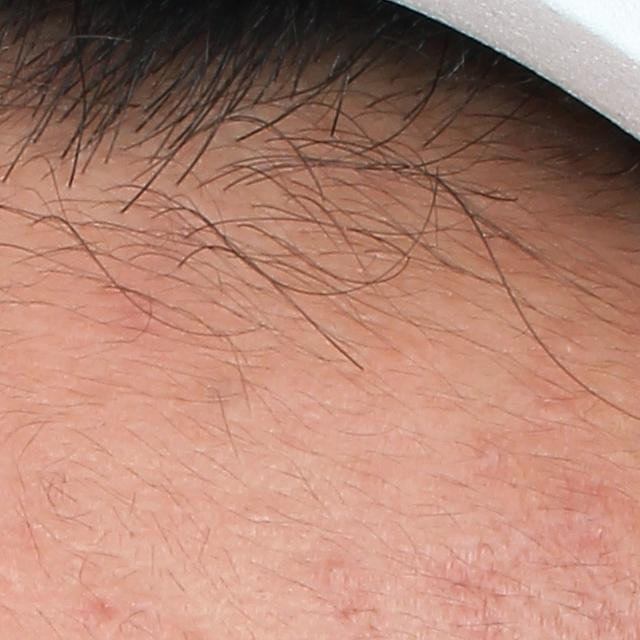comedo: (321, 557, 343, 584)
